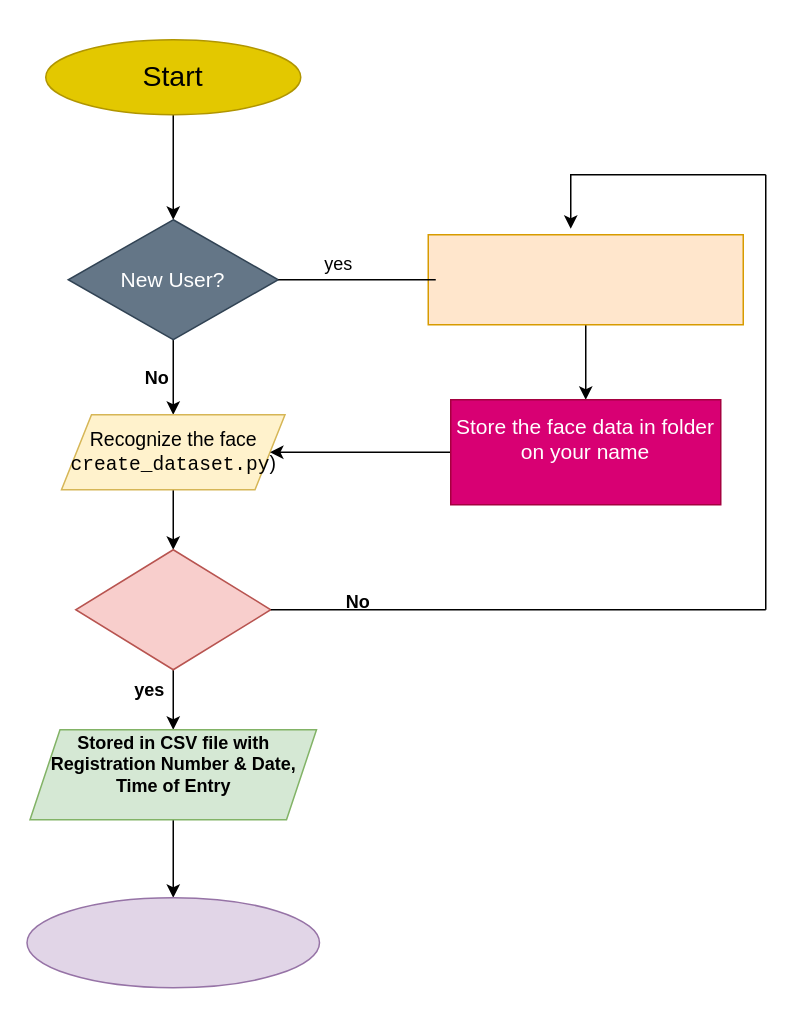
The diagram is 804 pixels wide and 1014 high, and some of its shapes have lost their labels. The shapes that lost their labels are listed below. From the top down, each one's centre as x and y in pixels, then its label:
At [585,279]: "Give your photograph".
At [172,609]: "Face Recognized".
At [173,942]: "End".
